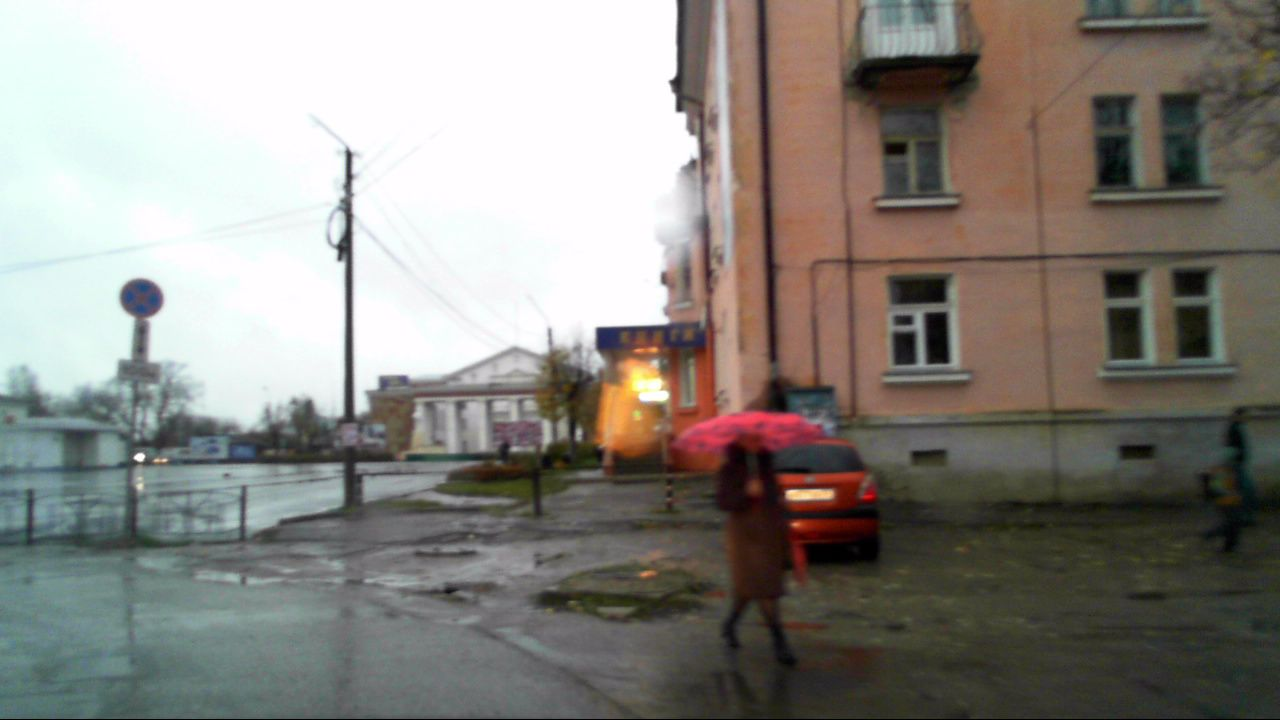No Parking: (121, 278, 163, 318)
